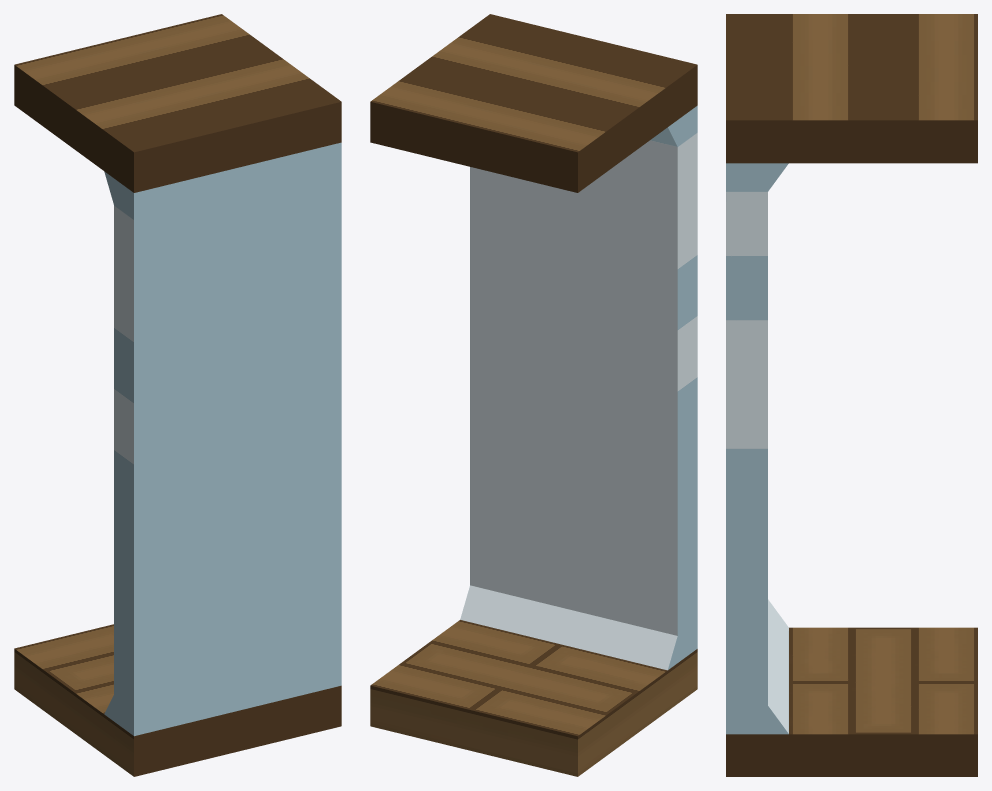
File: HomeWallFront.obj
The picture shows the model from 3 angles, left to right: view 1: azimuth 30°, elevation 25°; view 2: azimuth 150°, elevation 25°; view 3: azimuth 270°, elevation 25°; orthographic projection. The views are drawn at different scales.
Visible parts, largest first — view 1: Wall, Mid; view 2: Wall, Mid; view 3: Mid, Wall.
Boxes of the visible parts, box(x1,y1,x2,y2) form: Wall: box(104, 142, 341, 736); Mid: box(14, 14, 341, 776); Wall: box(460, 105, 697, 670); Mid: box(370, 14, 697, 776); Mid: box(726, 14, 977, 776); Wall: box(726, 163, 788, 734).
Bounding box in the file's own units: 1 × 2.88 × 1.
2 materials, 2 textured.
